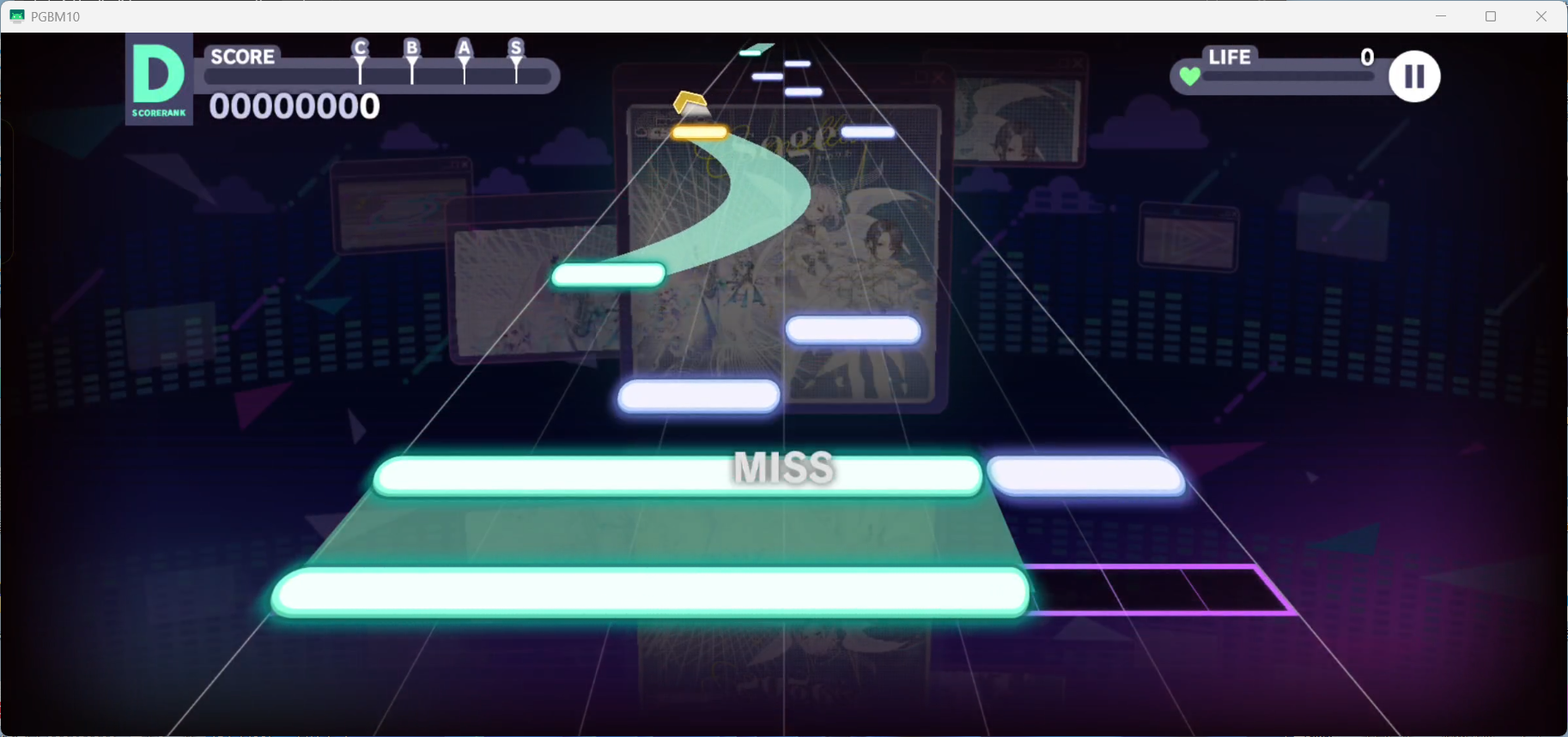flick: (672, 89, 711, 117)
hold: (304, 497, 1024, 566), (604, 139, 811, 260), (745, 43, 775, 51)
tap: (270, 566, 1030, 618), (374, 454, 980, 498), (986, 456, 1184, 496), (617, 378, 781, 414), (785, 315, 921, 345), (553, 262, 665, 288), (672, 125, 726, 139), (841, 125, 896, 138), (785, 88, 824, 96), (751, 72, 784, 80), (784, 60, 811, 67), (738, 50, 761, 56)
